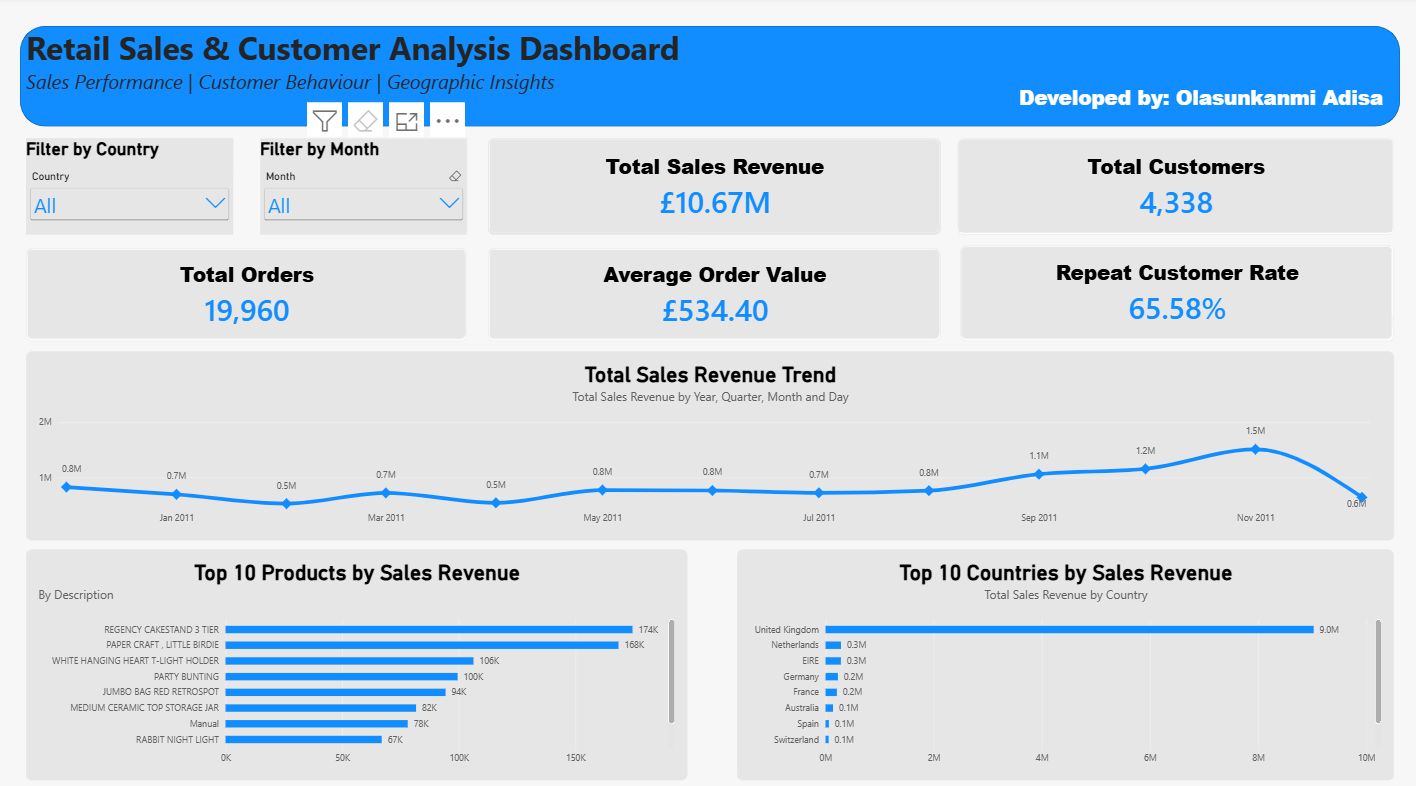

Layout of this report page (visuals, bound fields, positions):
{"tool":"powerbi","page":{"name":"Page 1","canvas":[1920,1080],"ordinal":0},"visuals":[{"type":"shape","box":[28.4,40.6,1865.4,135.8],"z":0},{"type":"cardVisual","fields":{"Data":["Retail_Sales_Cleaned.Total Sales Revenue"]},"box":[661,192.6,612.3,129.8],"z":1000},{"type":"cardVisual","fields":{"Data":["Retail_Sales_Cleaned.Total Orders Display"]},"box":[36.5,340.6,596.1,125.7],"z":2000},{"type":"cardVisual","fields":{"Data":["Retail_Sales_Cleaned.Total Customers Display"]},"box":[1295.6,192.6,590,129.8],"z":3000},{"type":"cardVisual","fields":{"Data":["Retail_Sales_Cleaned.Average Order Value"]},"box":[661,340.6,612.3,125.7],"z":4000},{"type":"lineChart","title":"Total Sales Revenue Trend","fields":{"Category":["Retail_Sales_Cleaned.Month.Variation.Date Hierarchy.Year","Retail_Sales_Cleaned.Month.Variation.Date Hierarchy.Quarter","Retail_Sales_Cleaned.Month.Variation.Date Hierarchy.Month","Retail_Sales_Cleaned.Month.Variation.Date Hierarchy.Day"],"Y":["Retail_Sales_Cleaned.Total Sales Revenue"]},"box":[36.5,480.5,1849.1,255.5],"z":5000},{"type":"clusteredBarChart","title":"Top 10 Products by Sales Revenue","fields":{"Category":["Retail_Sales_Cleaned.Description"],"Y":["Retail_Sales_Cleaned.Total Sales Revenue"]},"box":[36.5,748.2,894.2,312.2],"z":6000},{"type":"clusteredBarChart","title":"Top 10 Countries by Sales Revenue","fields":{"Category":["Retail_Sales_Cleaned.Country"],"Y":["Retail_Sales_Cleaned.Total Sales Revenue"]},"box":[997.6,748.2,888.1,312.2],"z":7000},{"type":"cardVisual","fields":{"Data":["Retail_Sales_Cleaned.Repeat Customer Rate"]},"box":[1299.7,336.6,586,129.8],"z":8000},{"type":"slicer","title":"Filter by Country","fields":{"Values":["Retail_Sales_Cleaned.Country"]},"box":[36.5,192.6,279.8,129.8],"z":9000},{"type":"slicer","title":"Filter by Month","fields":{"Values":["Retail_Sales_Cleaned.Month"]},"box":[352.8,192.6,279.8,129.8],"z":10000},{"type":"textbox","box":[36.5,40.6,894.2,152.1],"z":11000},{"type":"textbox","box":[1378.8,117.6,506.9,75],"z":12000}]}

Visuals, with their boxes in screenshot pixels (x1, y1, x2, y2), scaled from the page's 1920x1080 canvas onto the 1416x786 screenshot:
shape: l=21, t=30, r=1397, b=128
cardVisual - Retail_Sales_Cleaned.Total Sales Revenue: l=487, t=140, r=939, b=235
cardVisual - Retail_Sales_Cleaned.Total Orders Display: l=27, t=248, r=467, b=339
cardVisual - Retail_Sales_Cleaned.Total Customers Display: l=956, t=140, r=1391, b=235
cardVisual - Retail_Sales_Cleaned.Average Order Value: l=487, t=248, r=939, b=339
"Total Sales Revenue Trend" lineChart: l=27, t=350, r=1391, b=536
"Top 10 Products by Sales Revenue" clusteredBarChart: l=27, t=545, r=686, b=772
"Top 10 Countries by Sales Revenue" clusteredBarChart: l=736, t=545, r=1391, b=772
cardVisual - Retail_Sales_Cleaned.Repeat Customer Rate: l=959, t=245, r=1391, b=339
"Filter by Country" slicer: l=27, t=140, r=233, b=235
"Filter by Month" slicer: l=260, t=140, r=467, b=235
textbox: l=27, t=30, r=686, b=140
textbox: l=1017, t=86, r=1391, b=140
